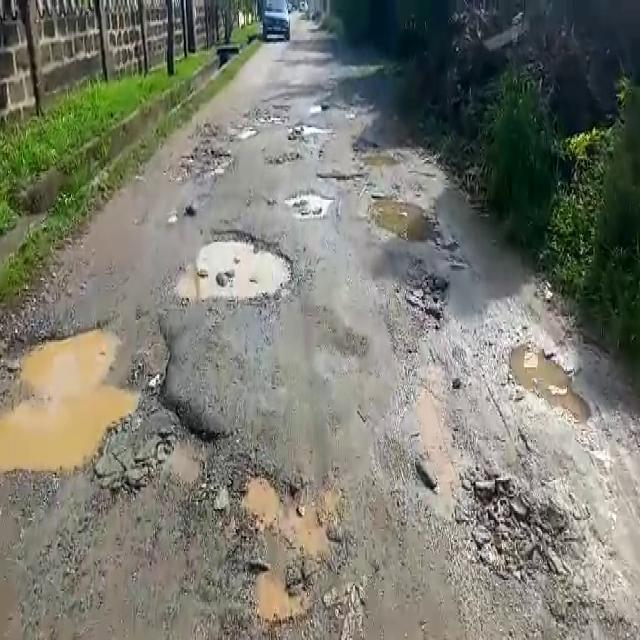pothole: (2, 314, 227, 491), (208, 465, 356, 632), (457, 471, 580, 588), (168, 228, 303, 304), (508, 341, 593, 425), (397, 259, 453, 331), (368, 195, 443, 244), (169, 146, 234, 180), (278, 187, 332, 214), (289, 120, 330, 139), (313, 170, 368, 184)
